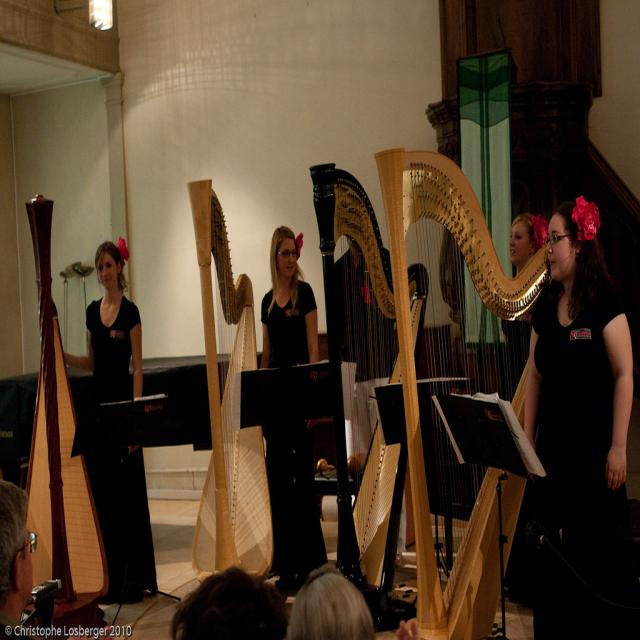harp: (375, 143, 570, 622), (305, 152, 426, 598), (188, 170, 264, 584)
